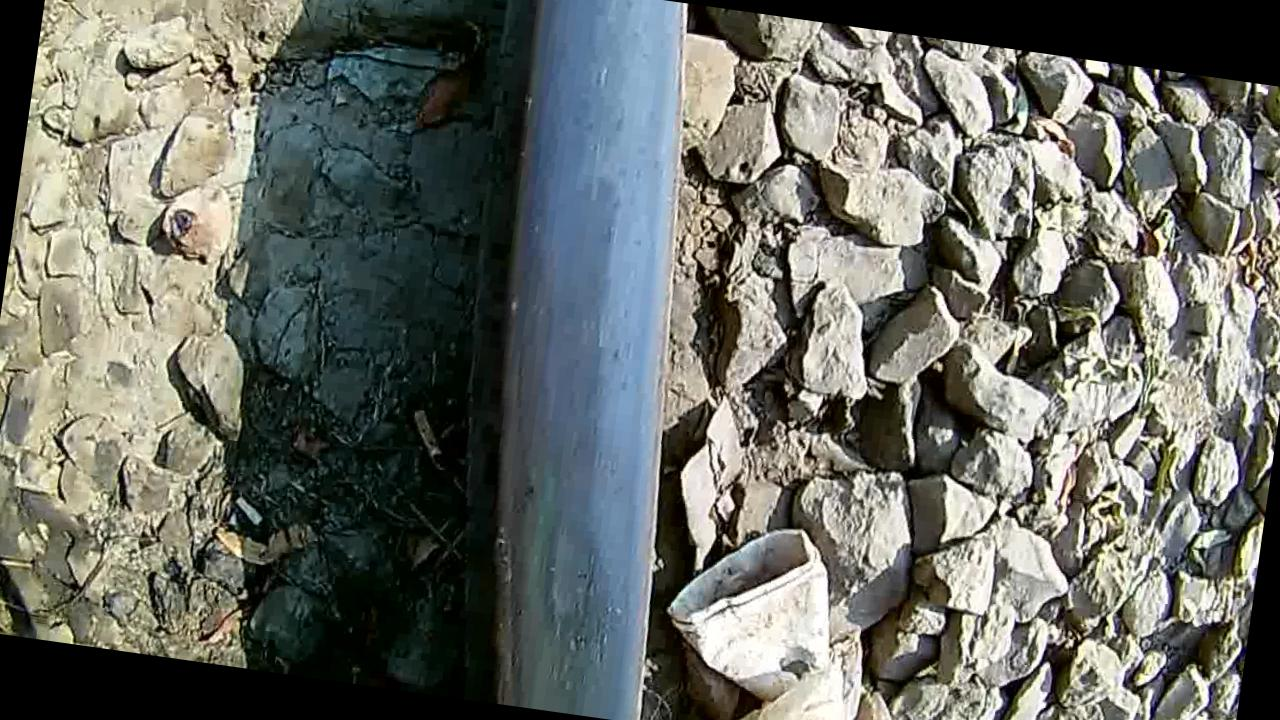bolt_missing: (431, 148, 705, 720)
